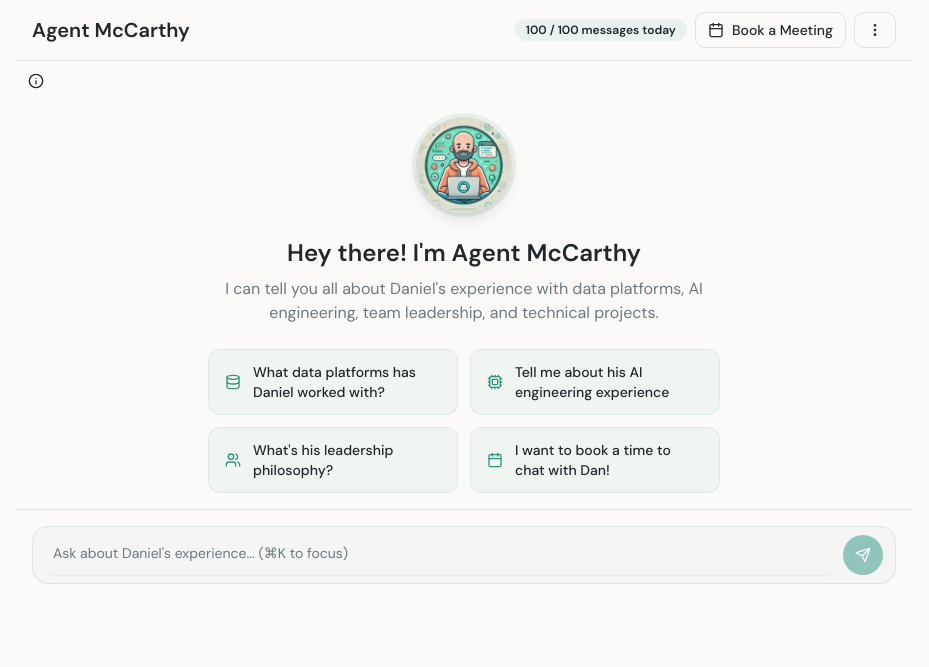
ChatInterface › displays rate limit error with remaining count
Type "Test message" into the text box with placeholder "Ask about Daniel's experience... (⌘K to focus)" at (440, 555), box [45,535,835,575]
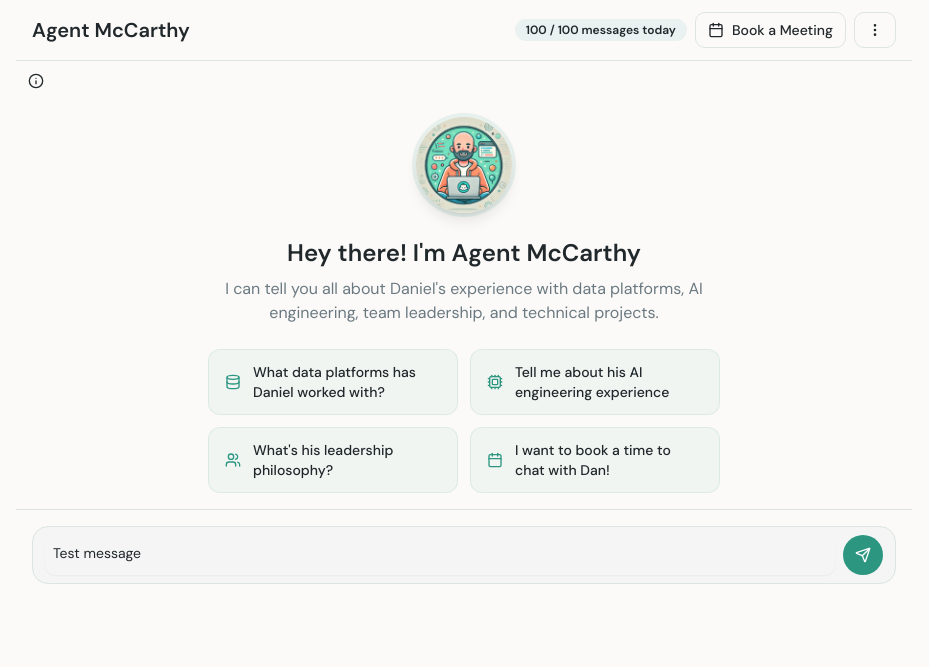
Click the button named "send message" at (863, 555), box [843,535,883,575]
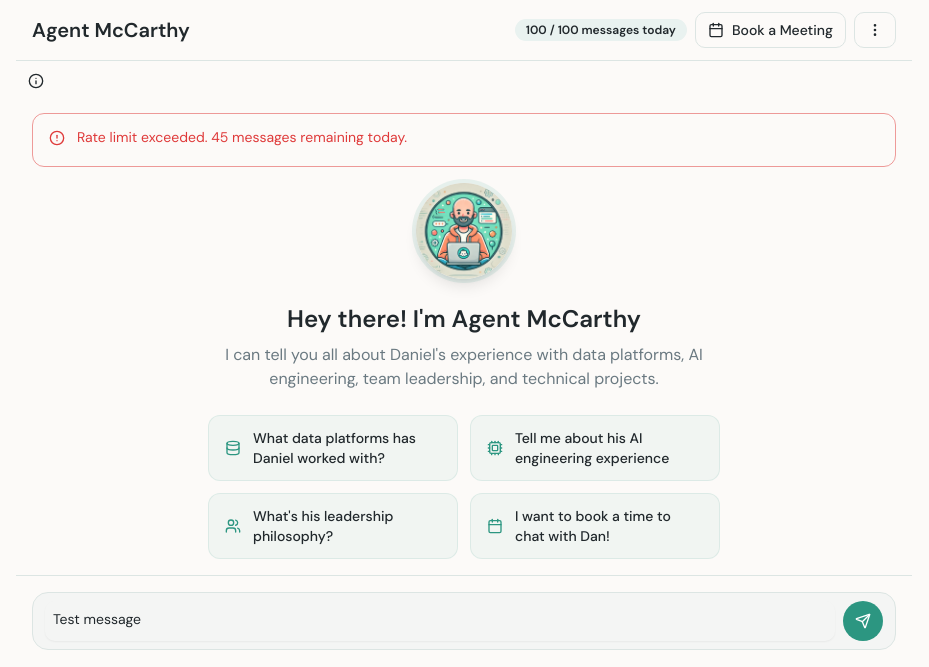
Now the text "Rate limit exceeded. 45 messages remaining today." is shown, box [77,128,407,146]
